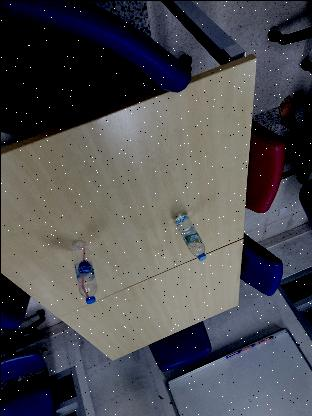Plastic Bottle: (69, 239, 97, 303), (172, 212, 206, 260)
